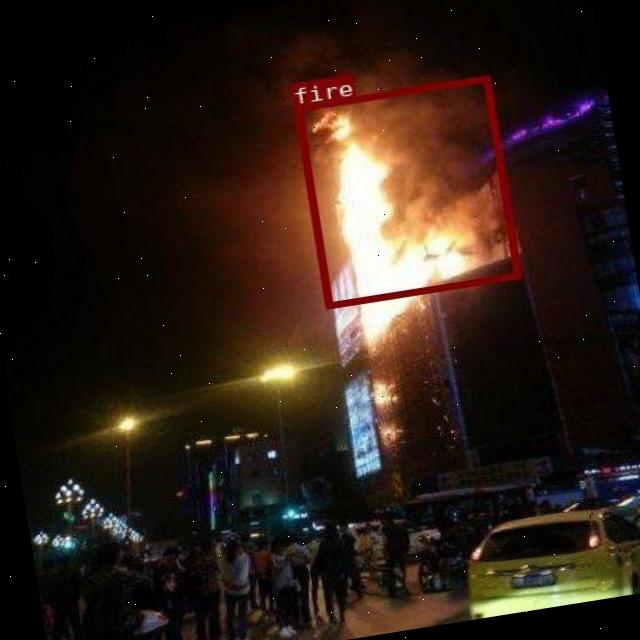fire: (294, 75, 520, 307)
